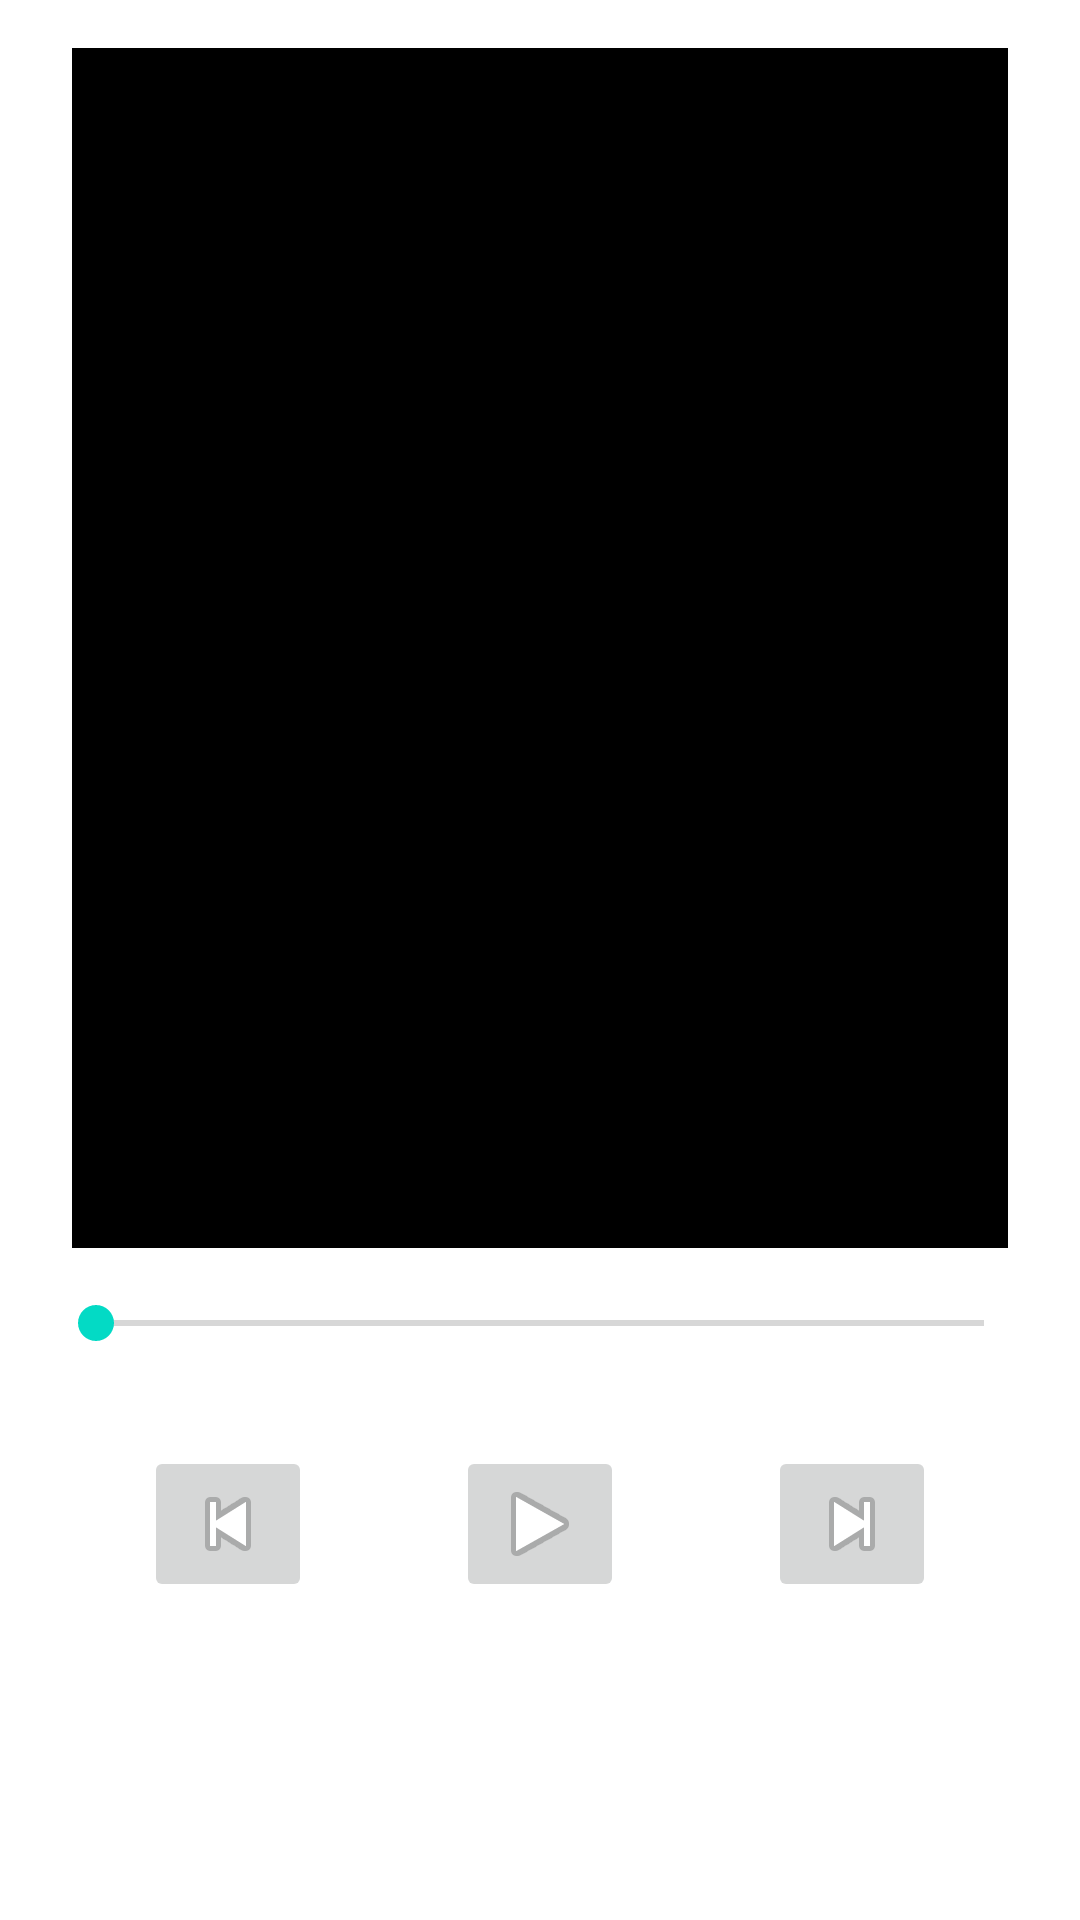

Named icons in this screenshot (1080px×1920px) and their centers, (x,y):
next: (852,1524)
play: (540,1524)
previous: (228,1524)
